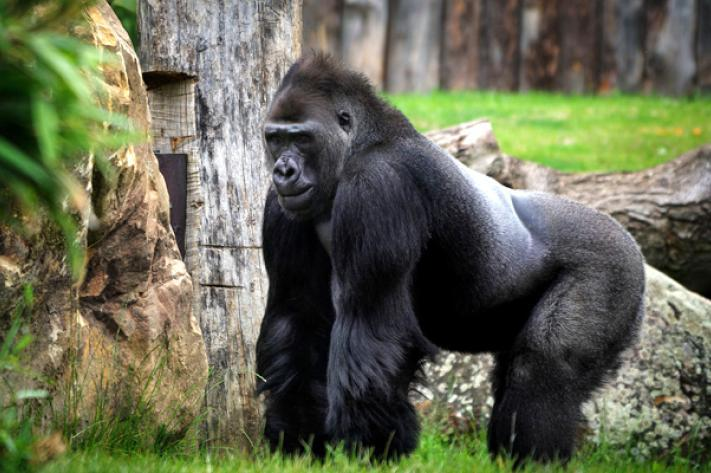goriile_montagne: (254, 43, 649, 456)
